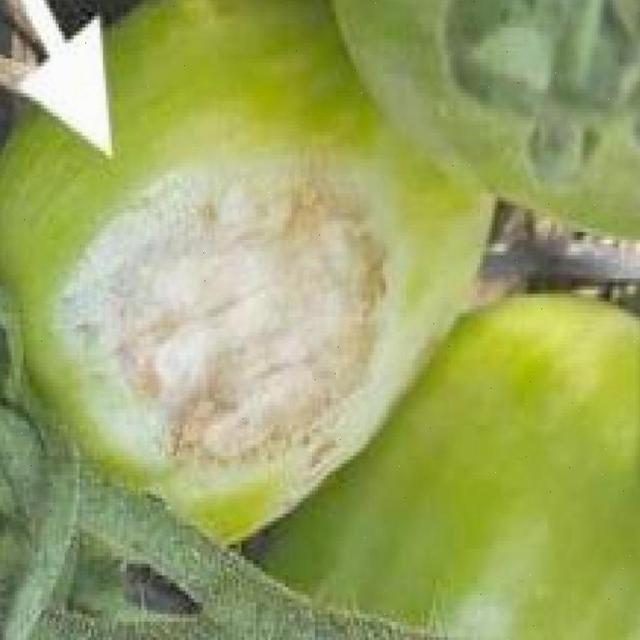Sunscald Fruit: (35, 92, 277, 331)
